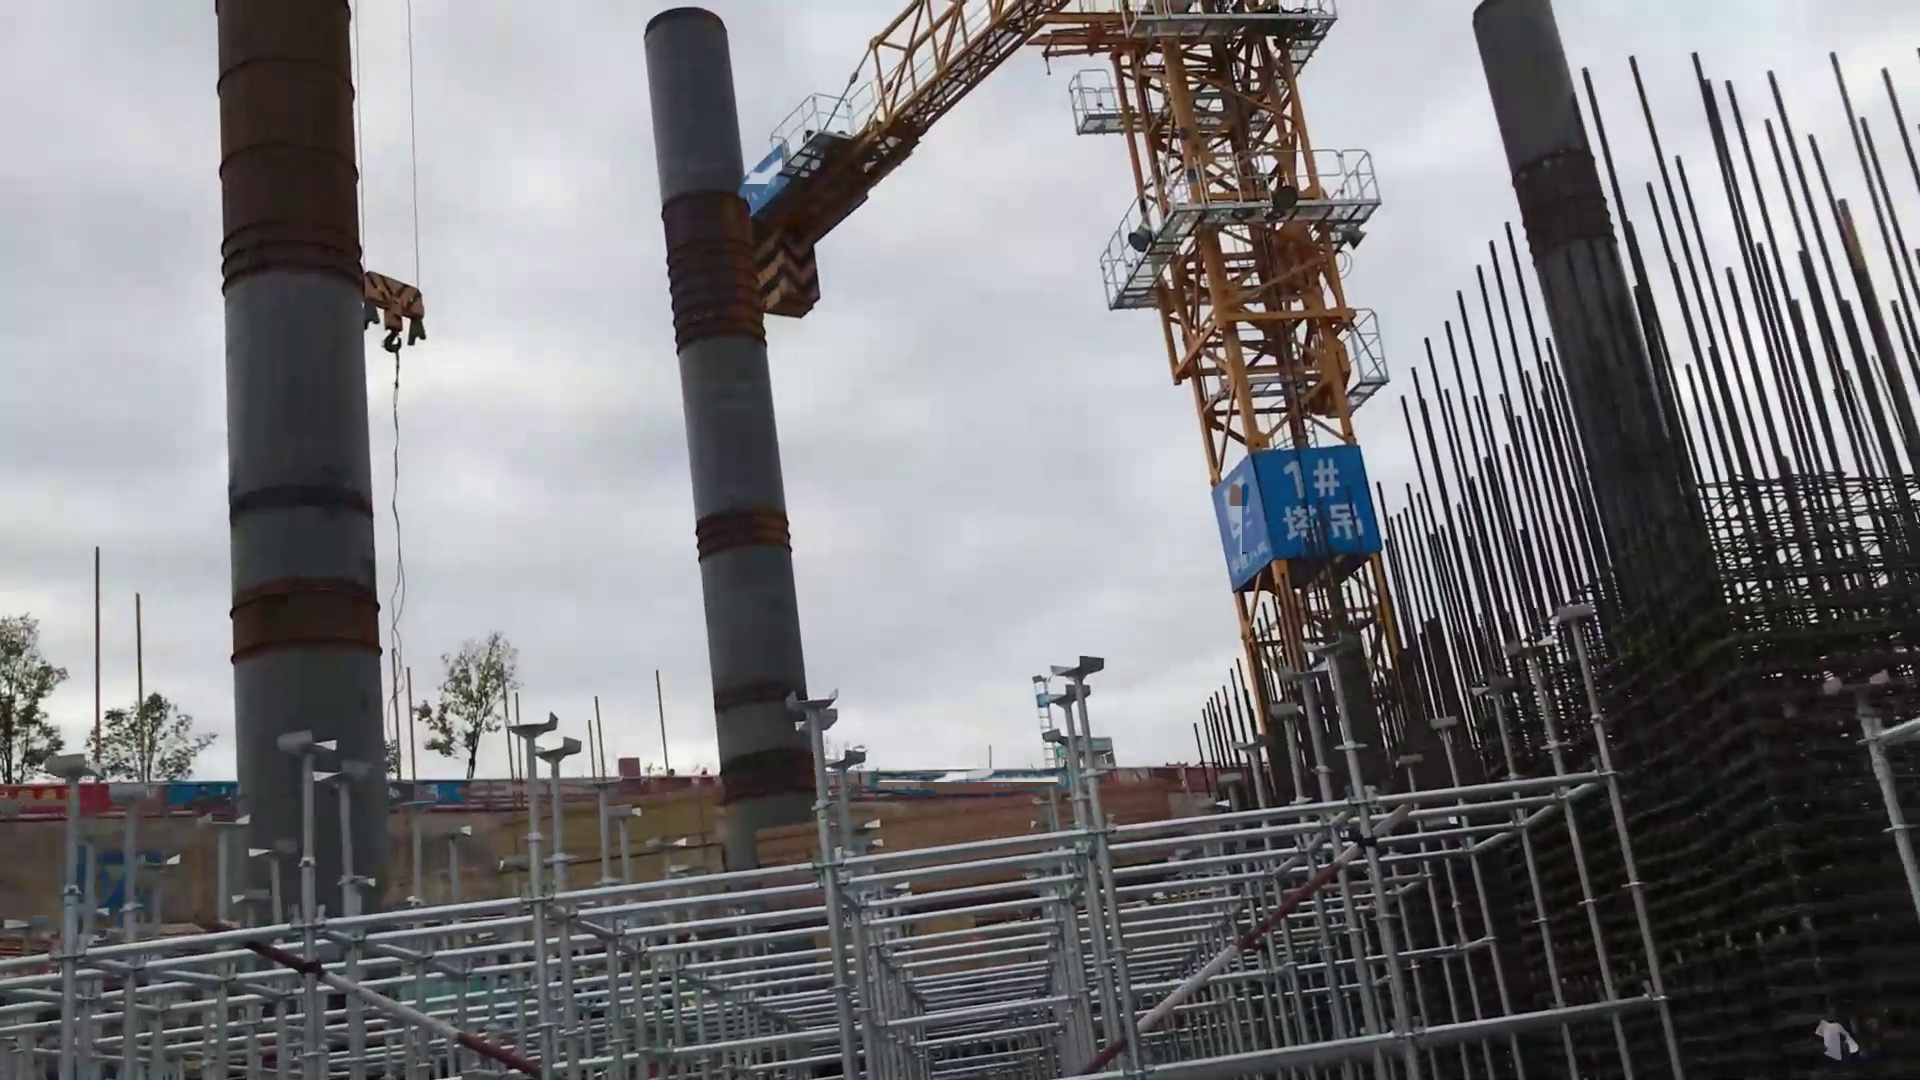hook: (356, 258, 430, 365)
